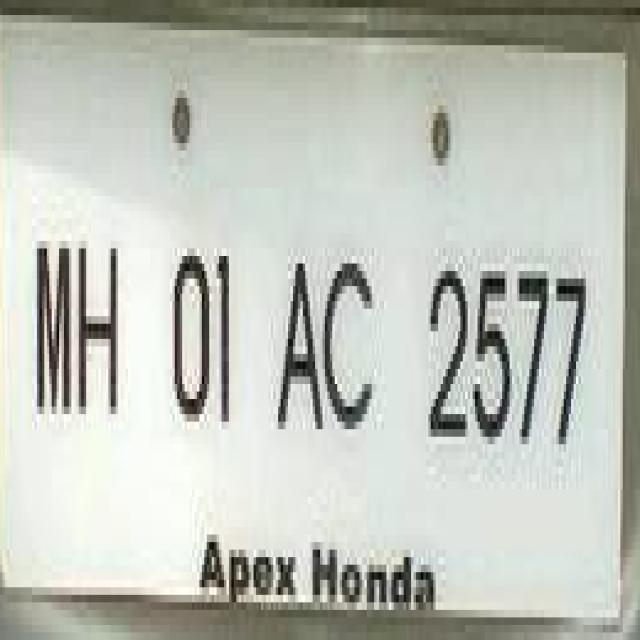license_plate: (5, 38, 605, 602)
